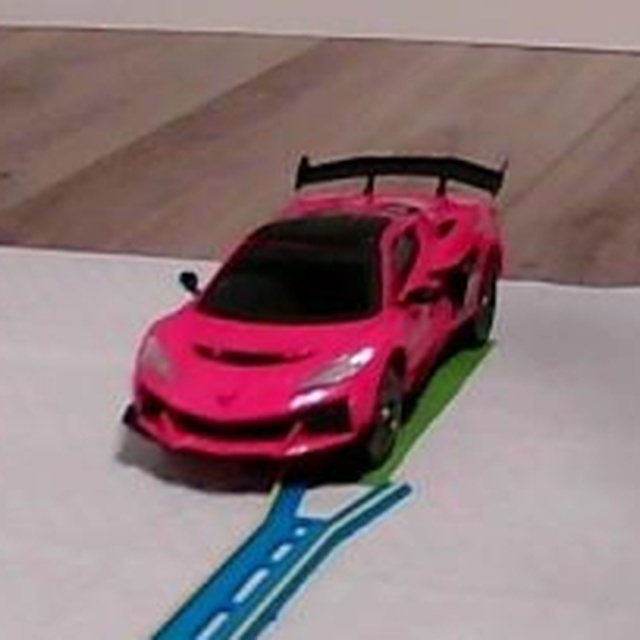tire_front_driver: (365, 380, 405, 470)
tire_rear_driver: (468, 260, 500, 345)
